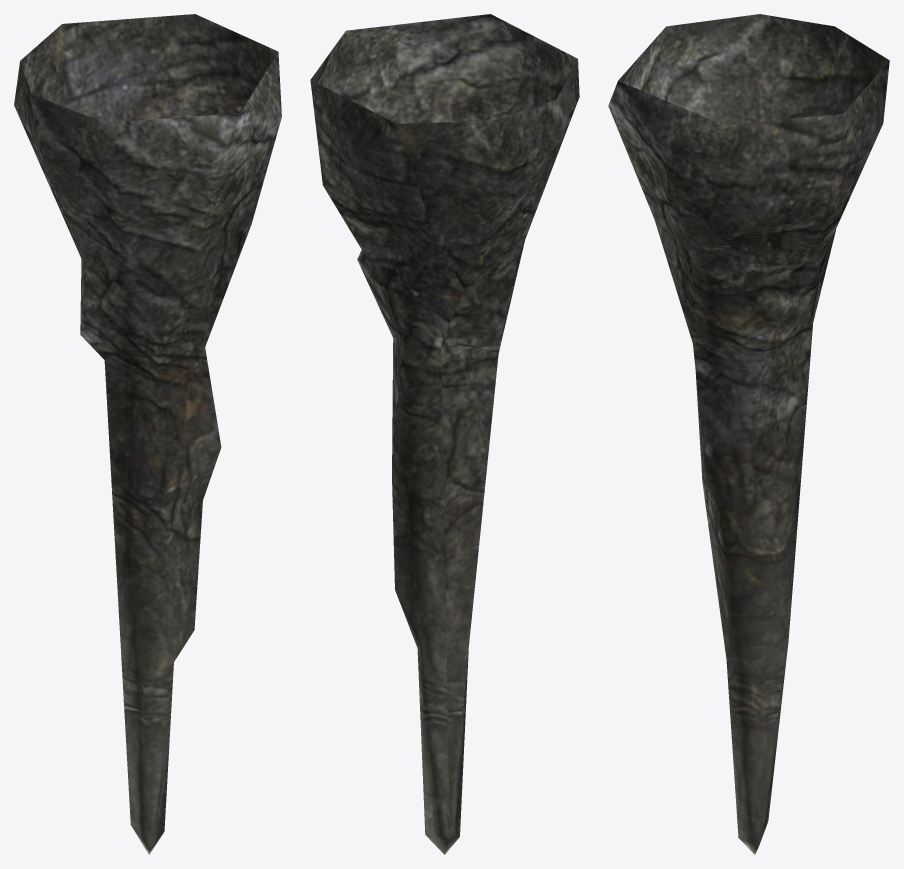
Rendered from Stal2.fbx.
3 views of the same model, side by side, from view 1: azimuth 30°, elevation 25°; view 2: azimuth 150°, elevation 25°; view 3: azimuth 270°, elevation 25° (orthographic).
Parts seen in each view (by area): view 1: Stal2; view 2: Stal2; view 3: Stal2.
Boxes of the visible parts, x1=… form: Stal2: x1=14, y1=14, x2=281, y2=854; Stal2: x1=310, y1=14, x2=579, y2=854; Stal2: x1=608, y1=14, x2=889, y2=854.
Bounding box in the file's own units: 0.841 × 2.7 × 0.877.
